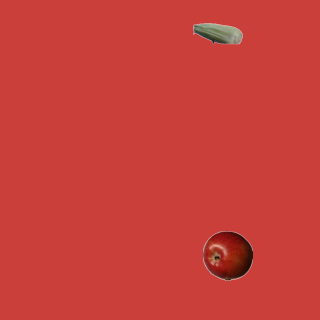Apple Braeburn: (202, 230, 252, 280)
Corn Husk: (192, 8, 242, 58)
